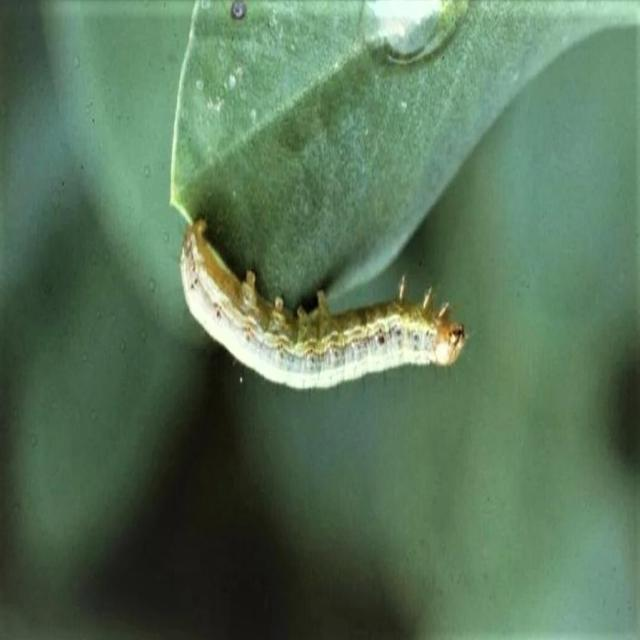armyworm: (178, 215, 468, 391)
